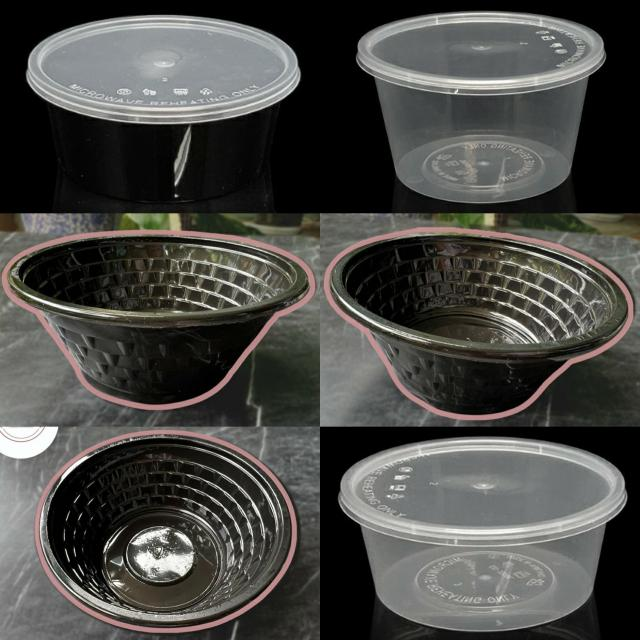Single-Use-Plastic: (339, 438, 627, 632), (329, 232, 629, 415), (35, 430, 296, 632), (26, 16, 300, 202), (8, 234, 309, 403), (357, 12, 605, 204)
